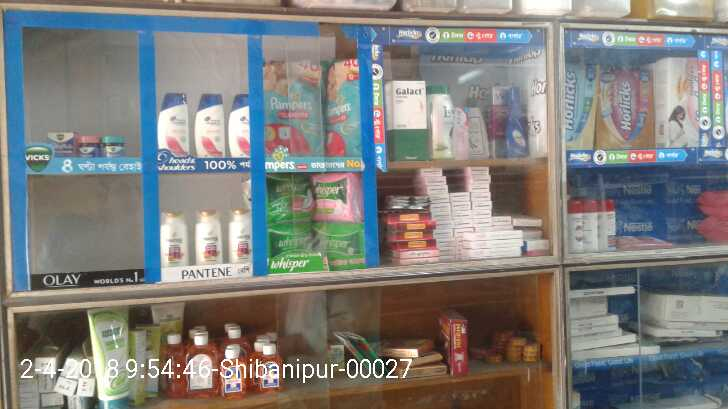vicks: (50, 132, 125, 154)
